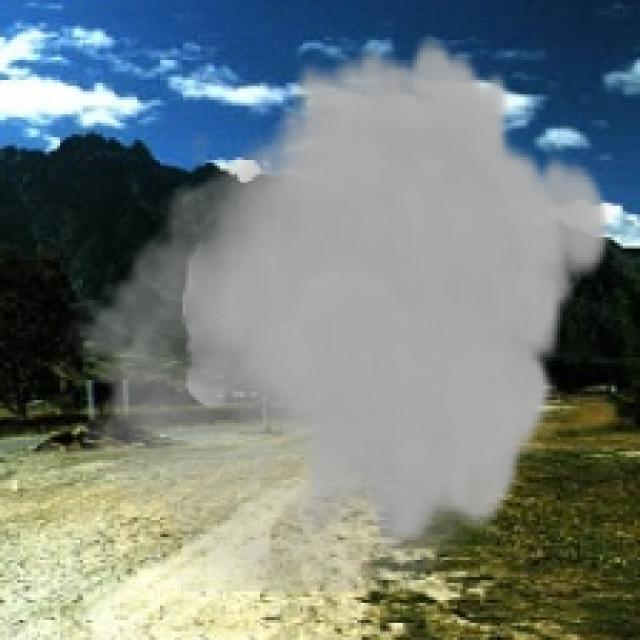Smoke: (62, 34, 614, 592)
